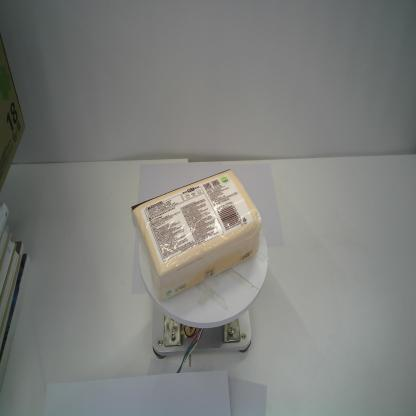Tissue: (130, 167, 264, 303)
